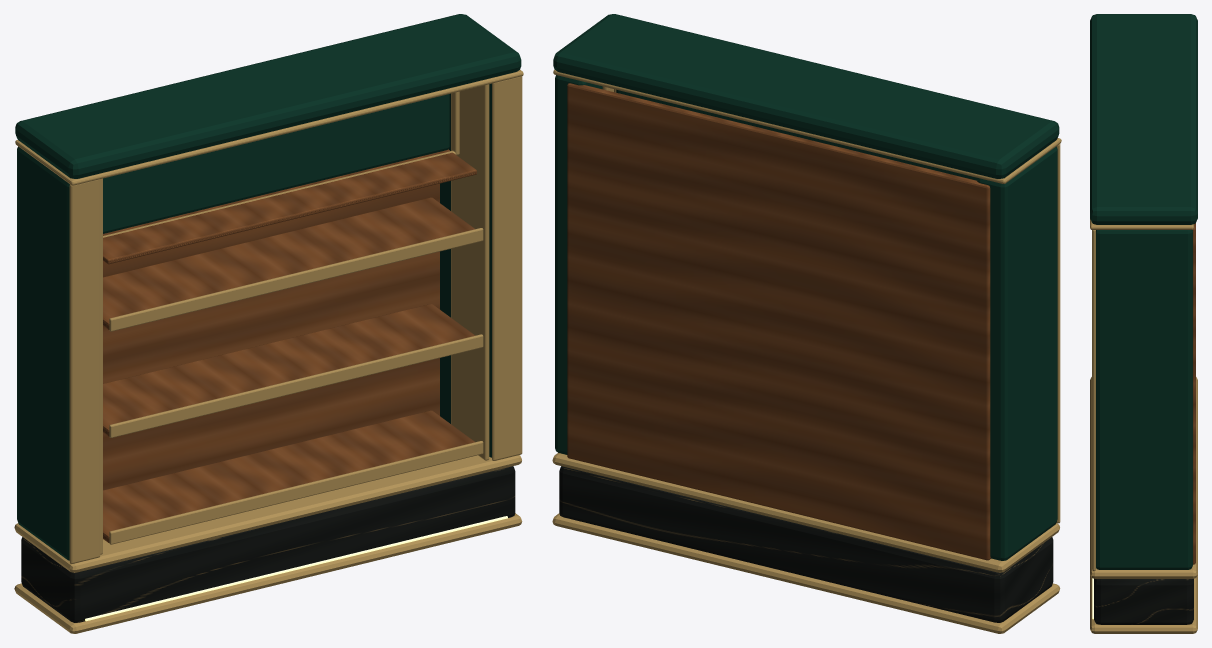
Rendered from gjh-m056-shelf-lod1.glb.
The picture shows the model from 3 angles, left to right: view 1: azimuth 30°, elevation 25°; view 2: azimuth 150°, elevation 25°; view 3: azimuth 270°, elevation 25°; orthographic projection. The views are drawn at different scales.
Parts seen in each view (by area): view 1: cabinet_back, cabinet_crown, cabinet_stone_base, cabinet_left_pillar, brand_header_panel, shelf_1, shelf_3, shelf_2, trim_left_front, trim_right_front, trim_right_inner, brand_header_light_canopy (+10 smaller); view 2: cabinet_back, cabinet_crown, cabinet_left_pillar, cabinet_stone_base, trim_base_plinth, trim_base_top, cabinet_right_pillar, trim_crown_lip, trim_left_front, brand_header_panel; view 3: cabinet_right_pillar, cabinet_crown, cabinet_stone_base, trim_base_top, trim_right_front, trim_base_plinth, cabinet_back, trim_crown_lip.
Boxes of the visible parts, bbox=[...] form: cabinet_back: bbox=[103, 183, 439, 490]; cabinet_crown: bbox=[15, 14, 521, 178]; cabinet_stone_base: bbox=[21, 466, 515, 622]; cabinet_left_pillar: bbox=[17, 146, 69, 560]; brand_header_panel: bbox=[103, 94, 449, 233]; shelf_1: bbox=[103, 410, 474, 542]; shelf_3: bbox=[103, 197, 475, 329]; shelf_2: bbox=[103, 304, 474, 436]; trim_left_front: bbox=[69, 179, 100, 563]; trim_right_front: bbox=[492, 76, 522, 460]; trim_right_inner: bbox=[451, 84, 489, 460]; brand_header_light_canopy: bbox=[103, 149, 476, 264]; cabinet_back: bbox=[567, 83, 990, 560]; cabinet_crown: bbox=[553, 14, 1059, 178]; cabinet_left_pillar: bbox=[977, 146, 1057, 560]; cabinet_stone_base: bbox=[559, 466, 1053, 622]; trim_base_plinth: bbox=[552, 513, 1060, 633]; trim_base_top: bbox=[552, 453, 1059, 572]; cabinet_right_pillar: bbox=[555, 75, 602, 454]; trim_crown_lip: bbox=[553, 69, 1061, 183]; trim_left_front: bbox=[1056, 144, 1060, 523]; brand_header_panel: bbox=[616, 89, 977, 180]; cabinet_right_pillar: bbox=[1096, 230, 1192, 569]; cabinet_crown: bbox=[1090, 14, 1197, 224]; cabinet_stone_base: bbox=[1094, 578, 1193, 624]; trim_base_top: bbox=[1090, 377, 1197, 578]; trim_right_front: bbox=[1092, 230, 1095, 570]; trim_base_plinth: bbox=[1090, 574, 1197, 633]; cabinet_back: bbox=[1193, 223, 1195, 564]; trim_crown_lip: bbox=[1090, 219, 1193, 229].
Size of the model in its own units: 2.4 by 2.4 by 0.55.
Materials: 5 (2 with a texture image).
